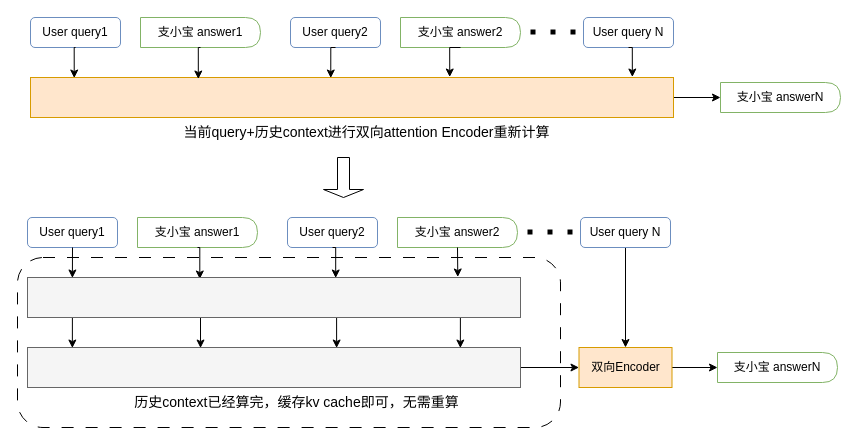
The diagram is 858 pixels wide and 445 high, and some of its shapes have lost their labels. The shapes that lost their labels are listed below. From the top down, each one's centre as x and y in pixels, then its label:
(352,97): GLM双向Encoder
(273,297): Prefix + casual LLM
(273,367): history context KV cache
